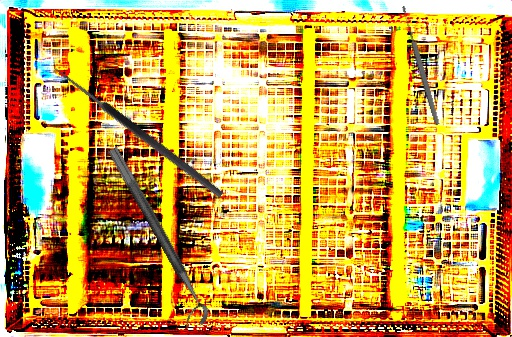Fixation Ring: (93, 146, 214, 332)
Hook Surgical: (44, 63, 226, 208)
Surgical Spoon: (400, 5, 441, 126)
